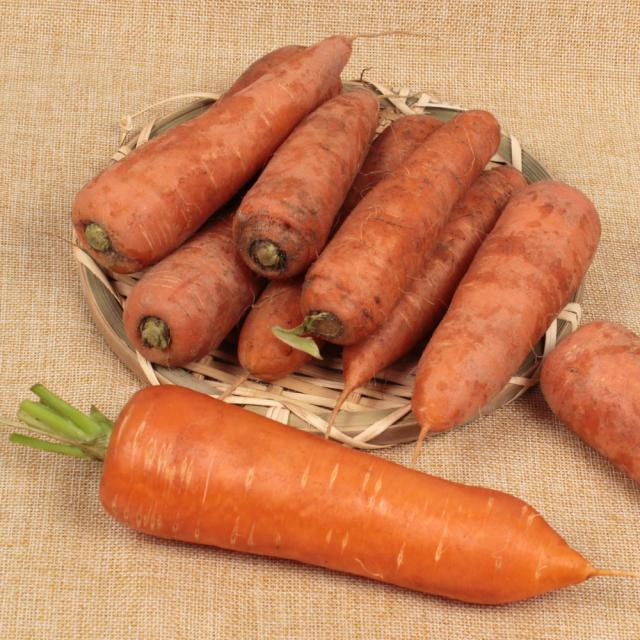carrot: (21, 382, 627, 614), (72, 34, 376, 274), (415, 180, 602, 445), (296, 110, 500, 346), (231, 89, 394, 276)
